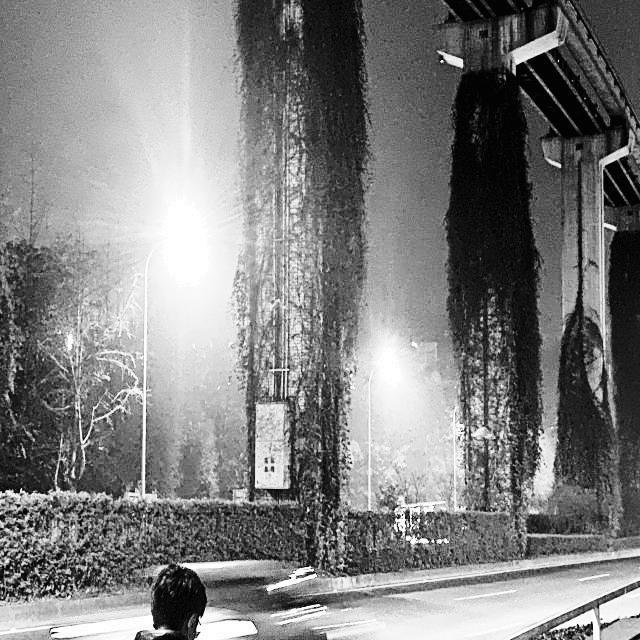Light: (166, 211, 203, 256), (370, 340, 404, 379)
